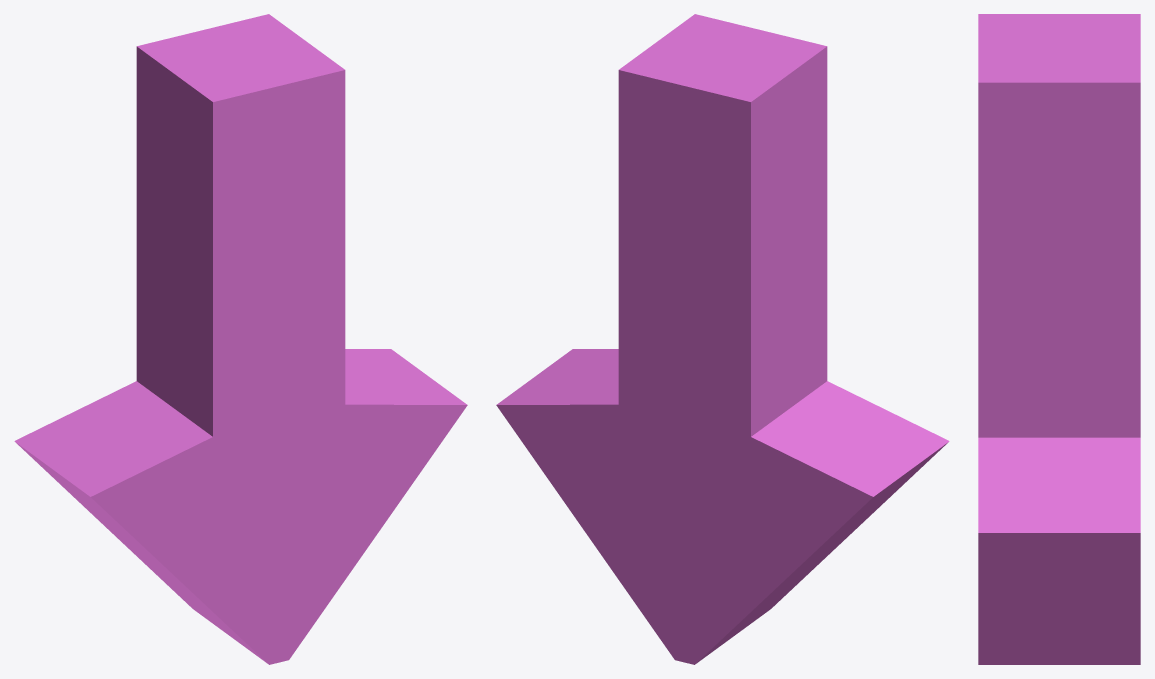
File: arrow_down_b.glb
3 views of the same model, side by side, from view 1: azimuth 30°, elevation 25°; view 2: azimuth 150°, elevation 25°; view 3: azimuth 270°, elevation 25° (orthographic). The views are drawn at different scales.
Parts seen in each view (by area): view 1: Cube.001; view 2: Cube.001; view 3: Cube.001.
Boxes of the visible parts, x1,y1,x2,y2 form: Cube.001: (14,14,467,664); Cube.001: (496,14,949,664); Cube.001: (978,14,1140,664).
Bounding box in the file's own units: 1.4 × 2.04 × 0.4895.
